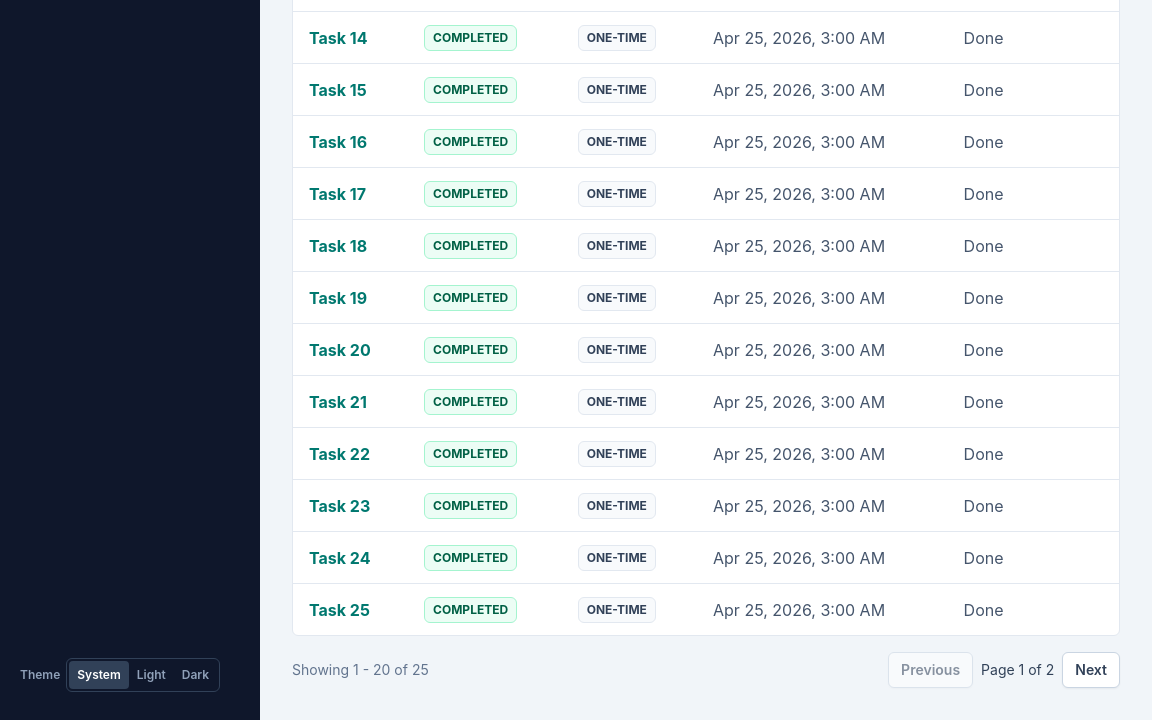
Scenario: App › paginates history results
The width and height of the screenshot is (1152, 720).
(page scrolled)
Click the button "Next" at coordinates (1091, 670), box left=1062, top=652, right=1120, bottom=688
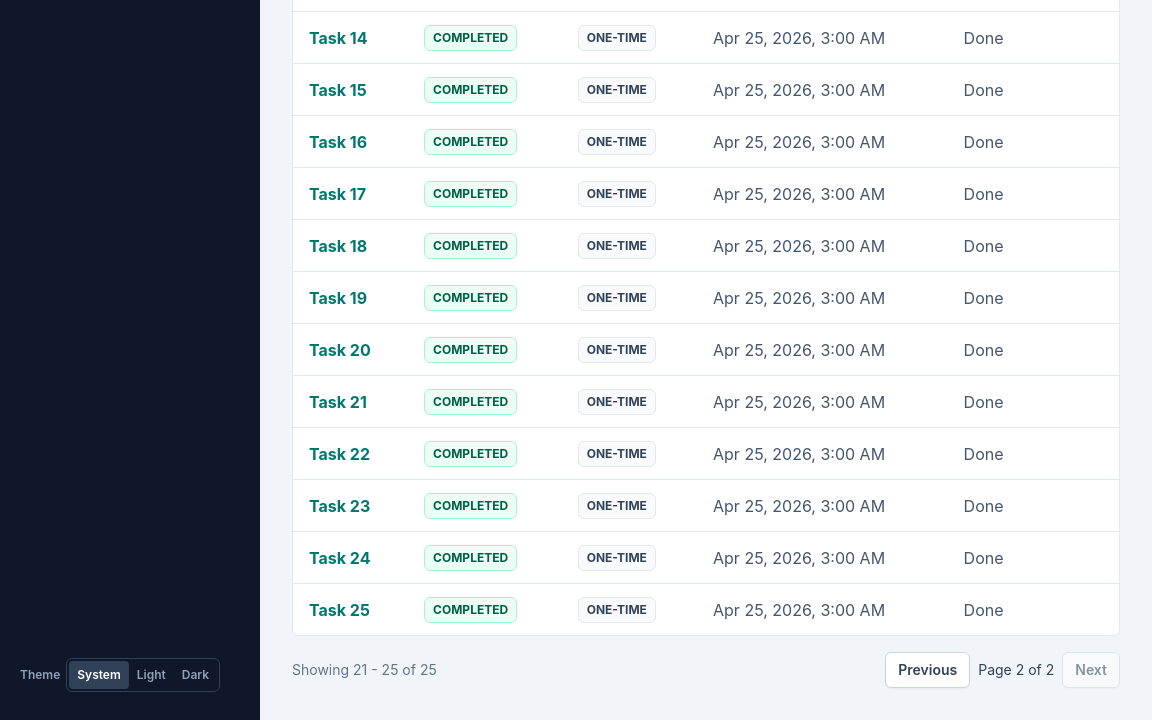
Result: the text "Page 2 of 2" is shown at left=978, top=660, right=1054, bottom=680
Result: the text "Showing 21 - 25 of 25" is shown at left=292, top=660, right=437, bottom=680
Click the button "Previous" at coordinates (928, 670), box left=885, top=652, right=970, bottom=688
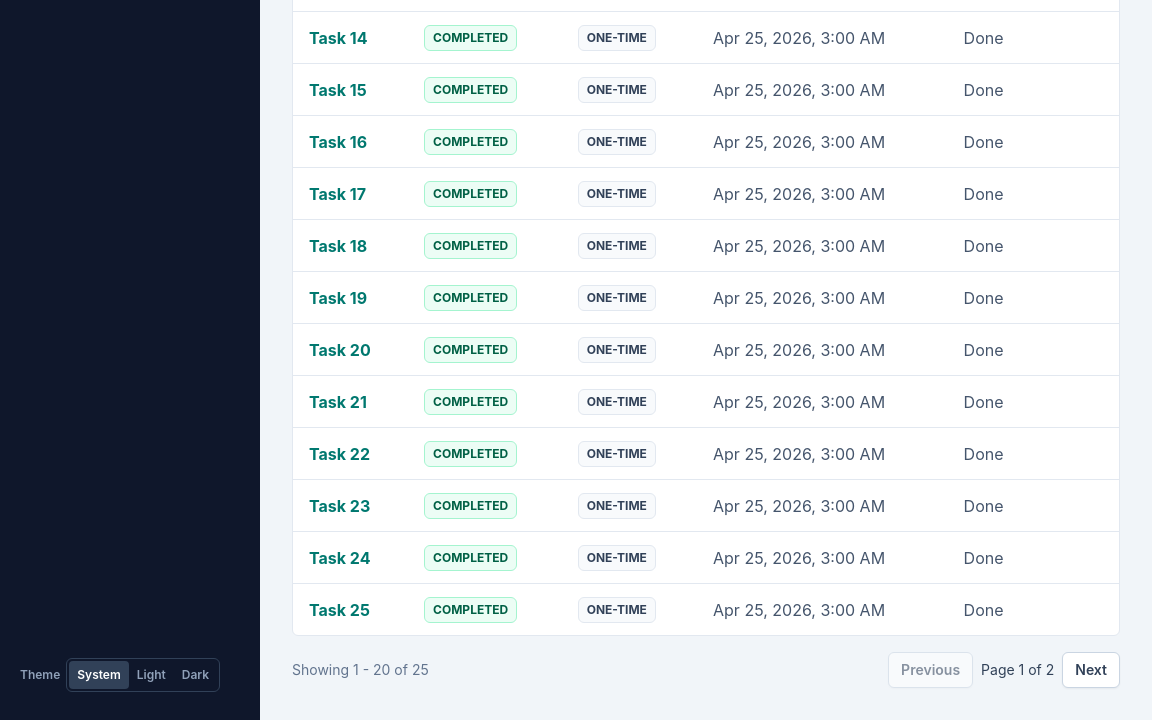
Result: the text "Page 1 of 2" is shown at left=981, top=660, right=1054, bottom=680
